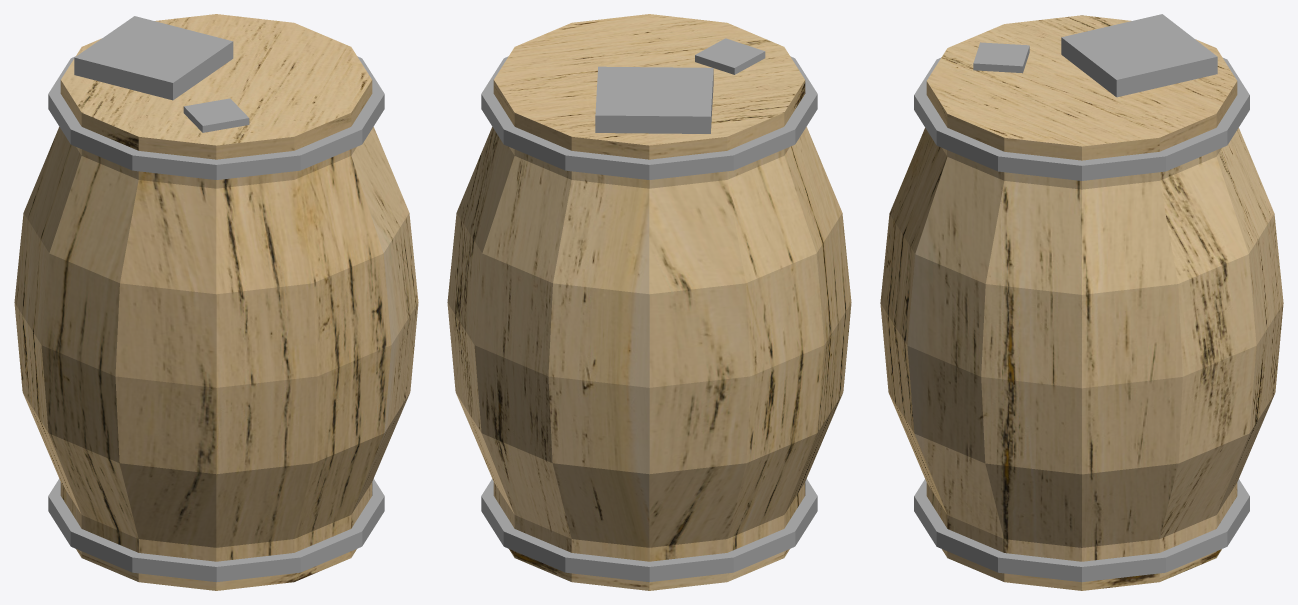
Rendered from FoodStorage.fbx.
The picture shows the model from 3 angles, left to right: view 1: azimuth 30°, elevation 25°; view 2: azimuth 150°, elevation 25°; view 3: azimuth 270°, elevation 25°; orthographic projection.
Parts seen in each view (by area): view 1: Cylinder; view 2: Cylinder; view 3: Cylinder.
Boxes of the visible parts, x1,y1,x2,y2 form: Cylinder: [14, 14, 418, 590]; Cylinder: [447, 14, 851, 590]; Cylinder: [880, 14, 1283, 590].
Bounding box in the file's own units: 5.13 × 6.49 × 5.13.
